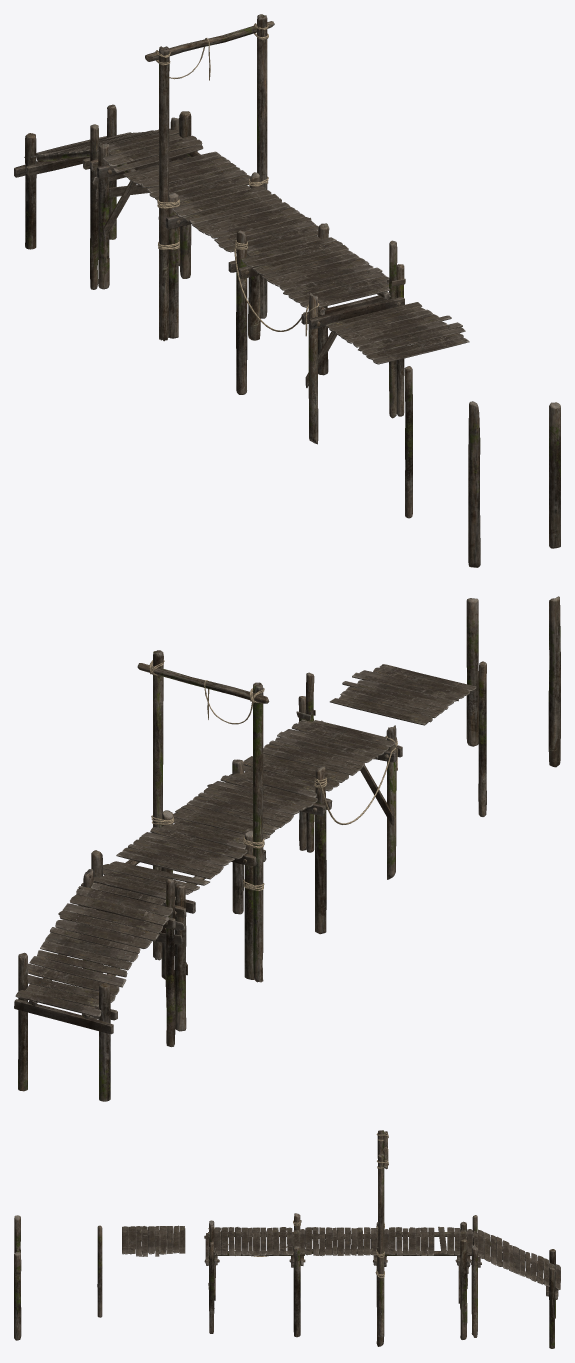
Rendered from modular_wooden_pier.gltf.
3 renders of one model, top to bottom at view 1: azimuth 30°, elevation 25°; view 2: azimuth 150°, elevation 25°; view 3: azimuth 270°, elevation 25°, orthographic. The views are drawn at different scales.
Bounding box in the file's own units: 3.1 × 7.51 × 19.03.
Materials: 2 (2 with a texture image).
